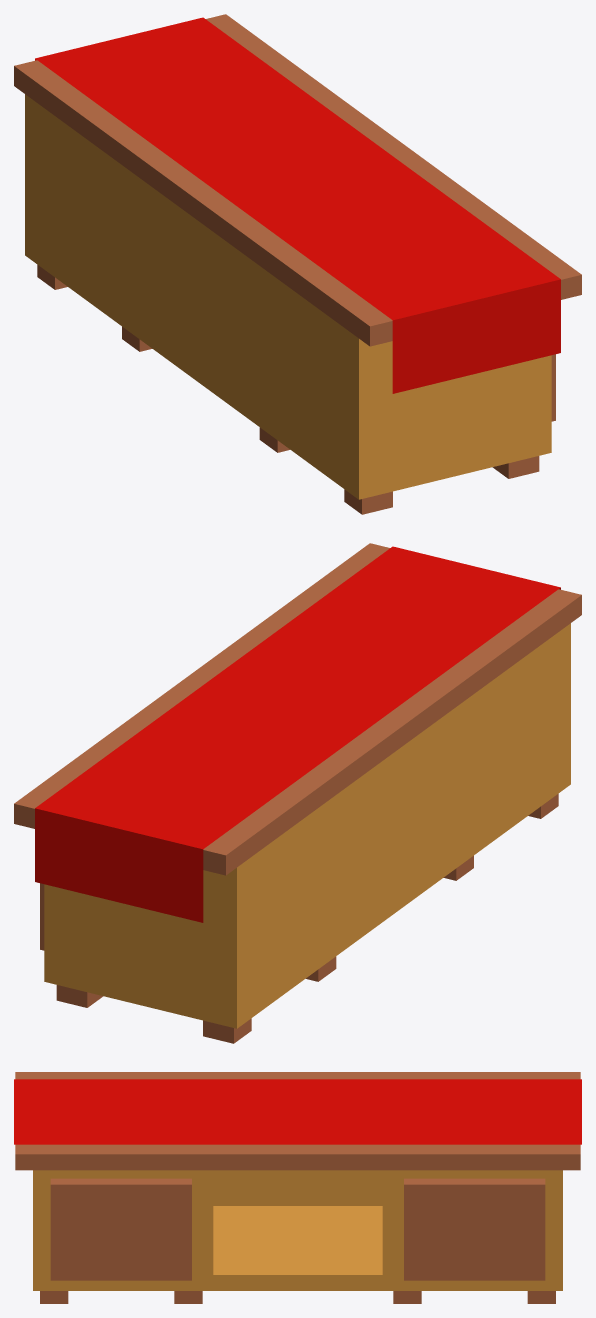
The model's file is cabinet_l2_cloth.fbx.
The picture shows the model from 3 angles, top to bottom: view 1: azimuth 30°, elevation 25°; view 2: azimuth 150°, elevation 25°; view 3: azimuth 270°, elevation 25°; orthographic projection. The views are drawn at different scales.
Parts seen in each view (by area): view 1: Cube.016; view 2: Cube.016; view 3: Cube.016.
Boxes of the visible parts, box(x1,y1,x2,y2) form: Cube.016: box(14, 14, 581, 514); Cube.016: box(14, 543, 581, 1043); Cube.016: box(14, 1072, 581, 1303).
Size of the model in its own units: 55 by 50.35 by 161.
